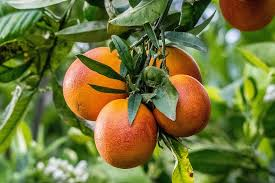orange: (58, 41, 131, 115), (92, 97, 159, 166), (153, 77, 213, 138)
